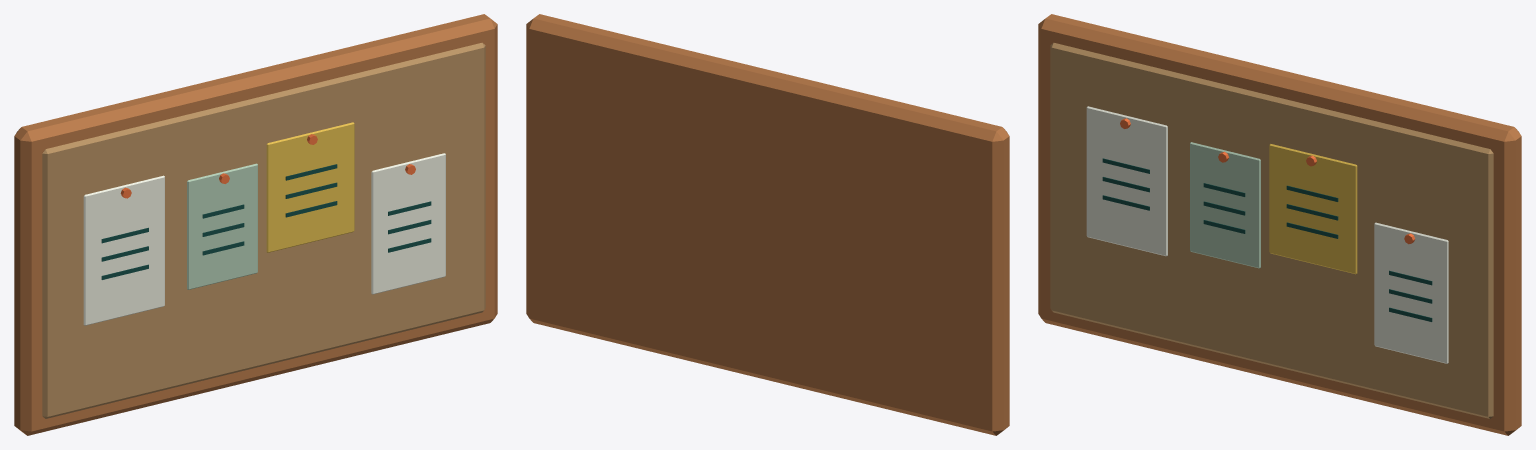
The model's file is notice_board.glb.
3 views of the same model, side by side, from view 1: azimuth 30°, elevation 25°; view 2: azimuth 150°, elevation 25°; view 3: azimuth 330°, elevation 25° (orthographic).
Visible parts, largest first — view 1: Cortiça, Moldura.001, Aviso, Aviso.002, Aviso.001, Linha impressa; view 2: Moldura.001; view 3: Cortiça, Moldura.001, Aviso, Aviso.002, Aviso.001, Linha impressa.
Boxes of the visible parts, box(x1,y1,x2,y2) form: Cortiça: box(42, 42, 485, 418); Moldura.001: box(14, 14, 497, 435); Aviso: box(83, 153, 445, 325); Aviso.002: box(266, 122, 354, 252); Aviso.001: box(187, 163, 257, 289); Linha impressa: box(101, 164, 431, 279); Moldura.001: box(526, 14, 1009, 435); Cortiça: box(1050, 42, 1493, 418); Moldura.001: box(1038, 14, 1521, 435); Aviso: box(1086, 106, 1448, 363); Aviso.002: box(1269, 144, 1357, 274); Aviso.001: box(1190, 142, 1260, 268); Linha impressa: box(1102, 158, 1432, 321).
Size of the model in its own units: 1.41 by 0.86 by 0.106.
